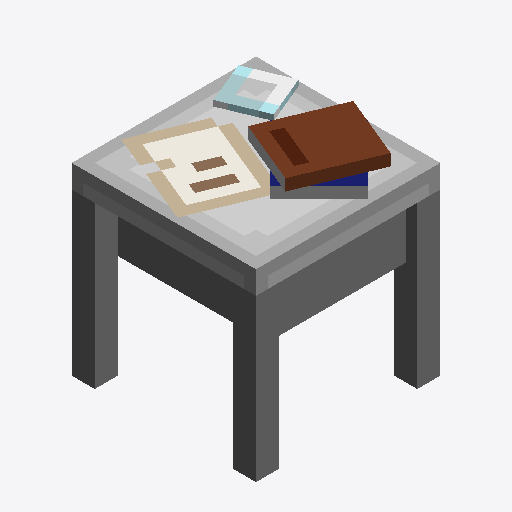
Isometric view (azimuth 45°, elevation 35.3°) of a Minecraft model made of 10 cuboids, textured from the same repository.
Parts seen in each view (by area): element 1, element 2, element 7, element 5, element 8, element 3, element 6, element 10, element 9.
Part boxes in pixels (x1,y1,x2,y2): element 1: (72,57,439,295); element 2: (118,210,405,335); element 7: (121,118,269,216); element 5: (233,283,278,481); element 8: (248,101,390,191); element 3: (72,190,117,388); element 6: (394,190,439,388); element 10: (213,65,298,119); element 9: (270,120,367,198).
Bounding box in the file's own units: 16 × 18 × 16.